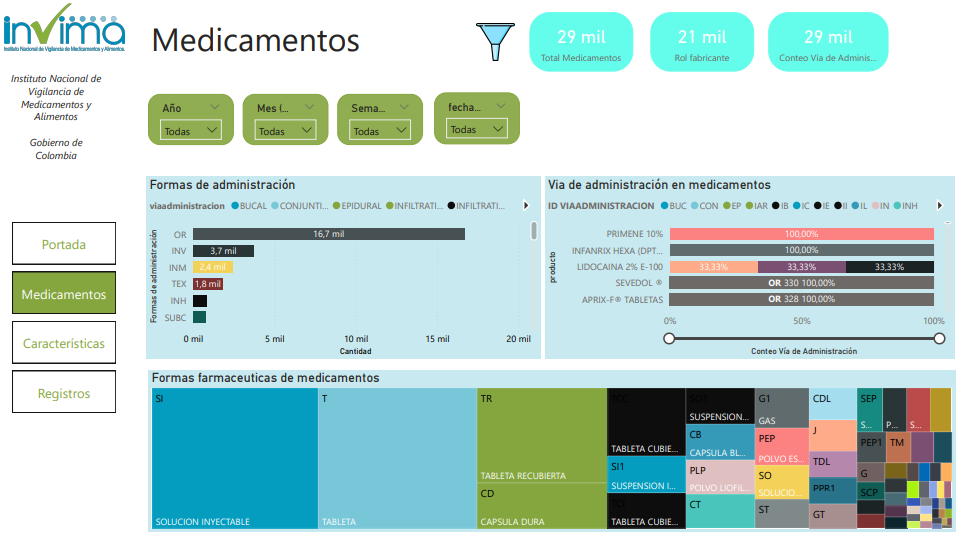

The page's visual inventory and layout, read from the dashboard file:
{"tool":"powerbi","page":{"name":"Medicamentos","canvas":[1280,720],"ordinal":1},"visuals":[{"type":"shape","box":[0,0,169.8,720],"z":0},{"type":"shape","box":[158.3,117.9,1121.4,110.7],"z":1000},{"type":"image","box":[0,0,170.2,95.2],"z":2000},{"type":"slicer","fields":{"Values":["Tabla calendario.Año"]},"box":[196,136,114,68],"z":3000},{"type":"slicer","fields":{"Values":["Tabla calendario.Mes (Letra)"]},"box":[322,136,114,68],"z":4000},{"type":"slicer","fields":{"Values":["Tabla calendario.Semana"]},"box":[448,136,114,68],"z":5000},{"type":"card","fields":{"Values":["#Medidas.Cantidad Medicamentos"]},"box":[704,27,138,79],"z":6000},{"type":"card","fields":{"Values":["#Medidas.Rol"]},"box":[865,27,138,79],"z":7000},{"type":"card","fields":{"Values":["#Medidas.Via administracion oral"]},"box":[1022,27,160,79],"z":8000},{"type":"textbox","box":[195.2,27.4,481,85.7],"z":9000},{"type":"textbox","box":[4.8,101.2,136.9,145.2],"z":10000},{"type":"barChart","title":"Formas de administración","fields":{"Category":["MEDICAMENTOS.ID VIAADMINISTRACION"],"Y":["CountNonNull(MEDICAMENTOS.ID VIAADMINISTRACION)"],"Series":["Viaadministracion.viaadministracion"]},"box":[192.9,246.4,526.2,244],"z":11000},{"type":"pageNavigator","box":[15,306.7,138.3,256.7],"z":12000},{"type":"slicer","fields":{"Values":["MEDICAMENTOS.fechaexpedicion"]},"box":[576.7,134.4,114.4,68.9],"z":13000},{"type":"treemap","title":"Formas farmaceuticas de medicamentos ","fields":{"Values":["CountNonNull(MEDICAMENTOS.ID PRODUCTO)"],"Group":["FormaFarmaceutica.ID FORMAFARMACEUTICA"],"Details":["FormaFarmaceutica.formafarmaceutica"]},"box":[195.6,504.4,1075.6,215.6],"z":14000},{"type":"image","box":[626.7,36.7,64.4,60],"z":15000},{"type":"hundredPercentStackedBarChart","title":"Via de administración en medicamentos","fields":{"Series":["MEDICAMENTOS.ID VIAADMINISTRACION"],"Category":["Producto.producto"],"Y":["#Medidas.Conteo Vía de Administración"]},"box":[723.8,246.2,546.2,243.8],"z":16000}]}

Visuals, with their boxes in screenshot pixels (x1, y1, x2, y2), scaled from the page's 1280x720 canvas onto the 959x536 screenshot:
shape: 0,0,127,535
shape: 119,88,958,170
image: 0,0,128,71
slicer - Tabla calendario.Año: 147,101,232,152
slicer - Tabla calendario.Mes (Letra): 241,101,327,152
slicer - Tabla calendario.Semana: 336,101,421,152
card - #Medidas.Cantidad Medicamentos: 527,20,631,79
card - #Medidas.Rol: 648,20,751,79
card - #Medidas.Via administracion oral: 766,20,886,79
textbox: 146,20,507,84
textbox: 4,75,106,183
"Formas de administración" barChart: 145,183,539,365
pageNavigator: 11,228,115,419
slicer - MEDICAMENTOS.fechaexpedicion: 432,100,518,151
"Formas farmaceuticas de medicamentos " treemap: 147,375,952,535
image: 470,27,518,72
"Via de administración en medicamentos" hundredPercentStackedBarChart: 542,183,952,365
